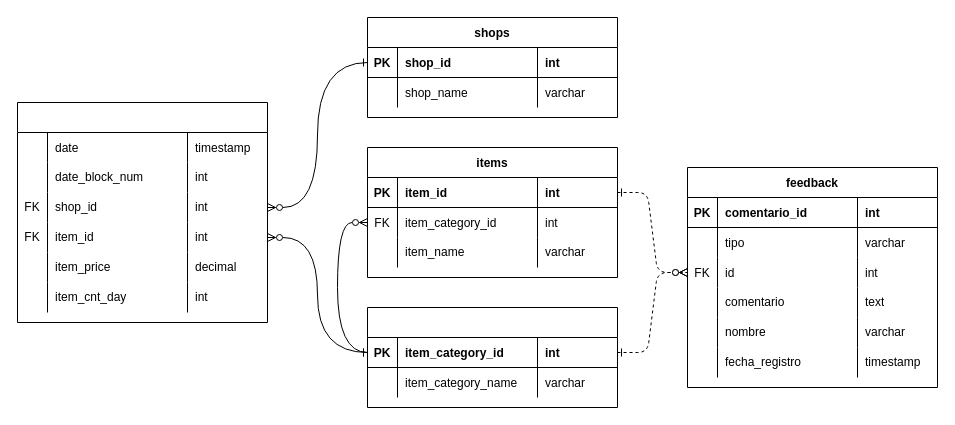
Image size: 955x425. Some labels were removed from this diagram. Here are the shapes that lost their labels. From the top down, the box of each, then its label:
(16, 102, 268, 322): sales_train
(366, 306, 618, 408): item_categories
